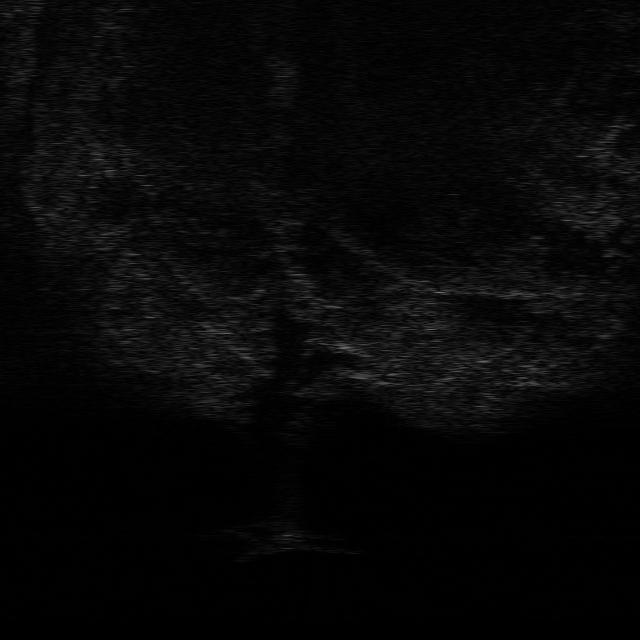plane: (229, 522, 361, 557)
